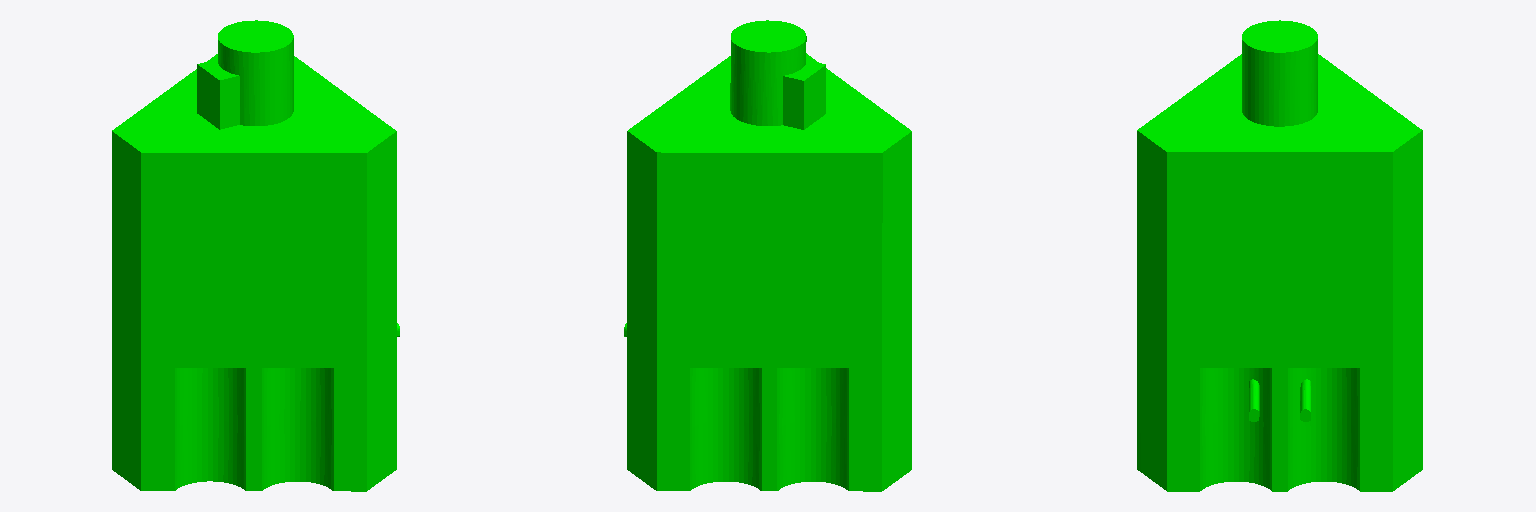
The robot description file, URDF, robot "main_opponent_robot":
<?xml version="1.0"?>
<robot name="main_opponent_robot">
  <material name="blue">
    <color rgba="0 1 0 0.8"/>
  </material>

  <link name="main_opponent_robot">

    <visual>
      <origin xyz="0 0 0.05" rpy="1.57 0 3.14" />
      <geometry>
        <mesh
          filename="package://eurobot_localization/models/Racer.stl" scale="0.001 0.001 0.001" />
      </geometry>
      <material name="blue"/>
    </visual>
    <collision>
      <origin xyz="0 0 0" rpy="1.57 0 1.05" />
      <geometry>
        <mesh
          filename="package://eurobot_localization/models/Racer.stl" scale="0.001 0.001 0.001" />
      </geometry>
    </collision>

  </link>

</robot>

--- What the picture shows (computed from the rendered views, not written in the file) ---
Views: 3 orthographic renders of the robot side by side, from view 1: azimuth 30°, elevation 25°; view 2: azimuth 150°, elevation 25°; view 3: azimuth 270°, elevation 25°.
Robot: main_opponent_robot — 1 links, 0 joints (none); root link main_opponent_robot; default pose: every joint at zero.
Visible links, largest first — view 1: main_opponent_robot; view 2: main_opponent_robot; view 3: main_opponent_robot.
Boxes of the visible links, left/top/right/bottom form: main_opponent_robot: left=112, top=20, right=399, bottom=491; main_opponent_robot: left=624, top=20, right=911, bottom=491; main_opponent_robot: left=1137, top=20, right=1422, bottom=491.
Bounding box of the posed robot: 0.2743 × 0.2626 × 0.4191 m (x, y, z).
1 mesh visuals loaded from 1 distinct referenced files (1 binary STL).